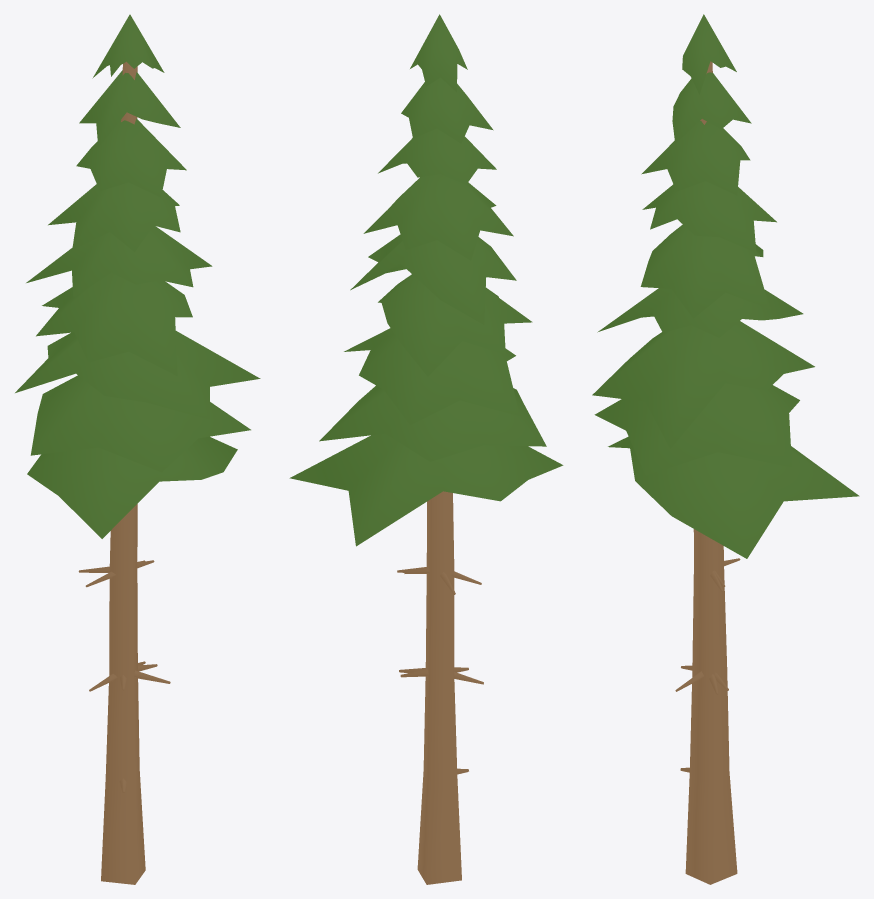
Rendered from Blender_Lodgepole_1_Far.glb.
The picture shows the model from 3 angles, left to right: view 1: azimuth 30°, elevation 25°; view 2: azimuth 150°, elevation 25°; view 3: azimuth 270°, elevation 25°; orthographic projection.
Visible parts, largest first — view 1: Blender_Lodgepole_1_Far; view 2: Blender_Lodgepole_1_Far; view 3: Blender_Lodgepole_1_Far.
Boxes of the visible parts, x1=… form: Blender_Lodgepole_1_Far: x1=15, y1=14, x2=260, y2=884; Blender_Lodgepole_1_Far: x1=289, y1=14, x2=563, y2=884; Blender_Lodgepole_1_Far: x1=592, y1=14, x2=859, y2=884.
Size of the model in its own units: 6.87 by 24.3 by 6.85.
